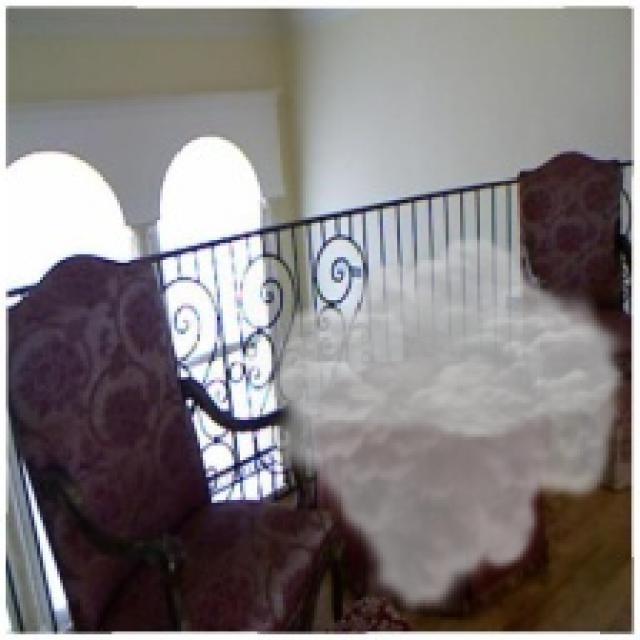Smoke: (260, 232, 634, 617)
